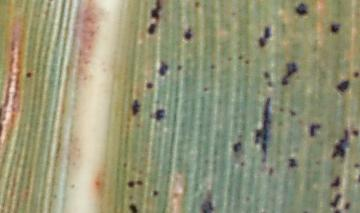tarspot: (254, 96, 270, 163), (330, 129, 351, 160), (146, 1, 163, 35), (280, 61, 298, 87), (198, 189, 215, 213), (256, 24, 273, 48), (293, 1, 308, 17), (149, 108, 167, 121), (335, 79, 351, 93), (328, 193, 342, 208), (157, 59, 168, 77), (129, 98, 141, 114), (308, 124, 322, 137), (231, 141, 243, 154), (328, 22, 340, 34), (286, 157, 298, 169), (329, 175, 341, 187), (182, 26, 192, 40), (1, 106, 4, 143), (127, 203, 137, 213), (144, 82, 155, 90), (127, 179, 135, 189), (288, 109, 298, 117), (175, 64, 184, 72), (343, 202, 351, 211), (262, 70, 270, 79), (208, 62, 217, 70), (349, 129, 359, 136), (269, 165, 274, 178), (135, 178, 143, 186), (25, 71, 33, 79), (193, 1, 202, 8), (353, 71, 360, 80), (226, 55, 235, 62), (151, 189, 159, 196), (352, 162, 360, 169), (356, 169, 360, 183), (266, 80, 272, 89), (278, 106, 285, 113), (243, 58, 250, 65), (202, 86, 209, 93), (332, 209, 343, 213), (236, 54, 243, 60), (239, 161, 245, 167)
